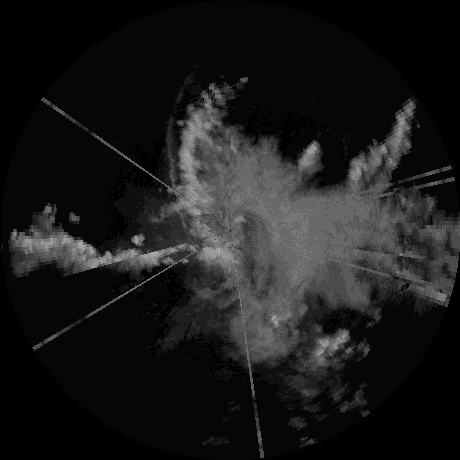frontgust: (166, 119, 178, 187), (178, 213, 193, 243)
